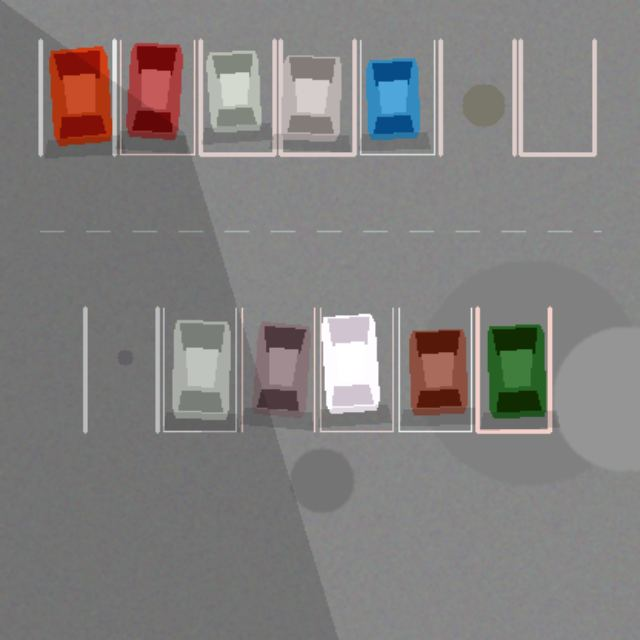space-empty: (85, 308, 157, 431), (440, 40, 514, 154), (520, 40, 594, 154)
space-occupied: (398, 308, 471, 431), (163, 308, 235, 431), (242, 308, 314, 431), (320, 308, 392, 431), (477, 308, 549, 431), (40, 40, 114, 154), (120, 40, 194, 154), (200, 40, 274, 154), (280, 40, 354, 154), (360, 40, 434, 154)
